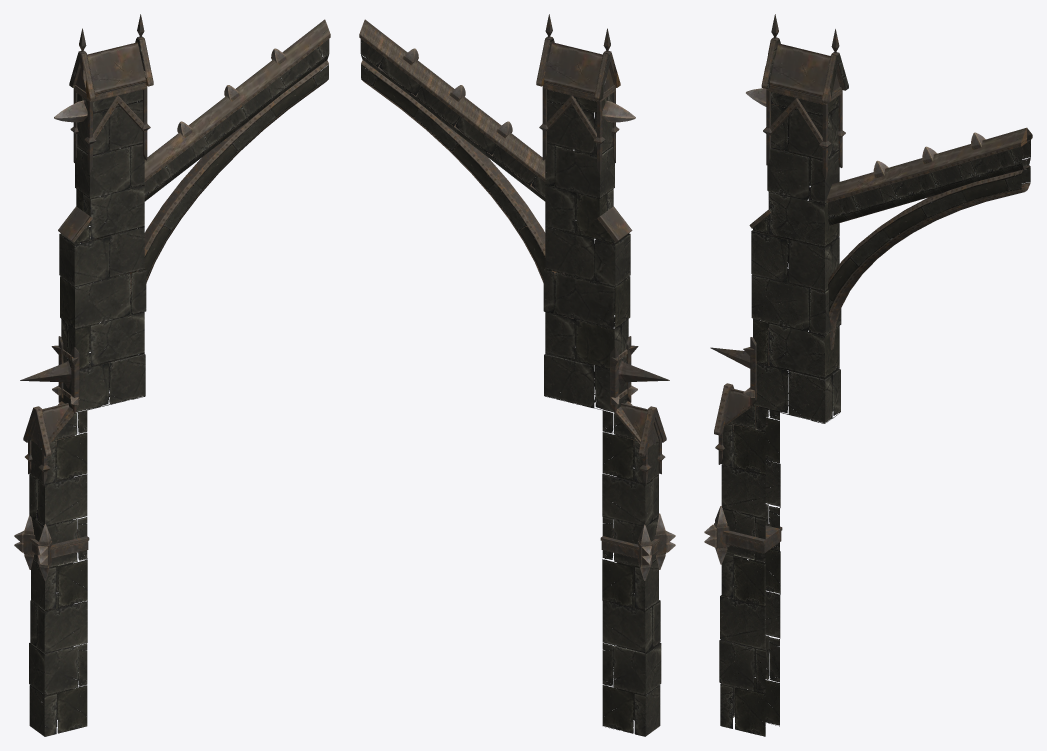
The picture shows the model from 3 angles, left to right: view 1: azimuth 30°, elevation 25°; view 2: azimuth 150°, elevation 25°; view 3: azimuth 330°, elevation 25°; orthographic projection. The views are drawn at different scales.
Parts seen in each view (by area): view 1: SM_Greathall_Flying_Buttress_01_LOD0; view 2: SM_Greathall_Flying_Buttress_01_LOD0; view 3: SM_Greathall_Flying_Buttress_01_LOD0.
Part boxes in pixels (x1,y1,x2,y2): SM_Greathall_Flying_Buttress_01_LOD0: (14,14,330,736); SM_Greathall_Flying_Buttress_01_LOD0: (359,14,675,736); SM_Greathall_Flying_Buttress_01_LOD0: (704,14,1032,736).
Size of the model in its own units: 10.1 by 21.91 by 1.52.
Materials: 3 (3 with a texture image).
